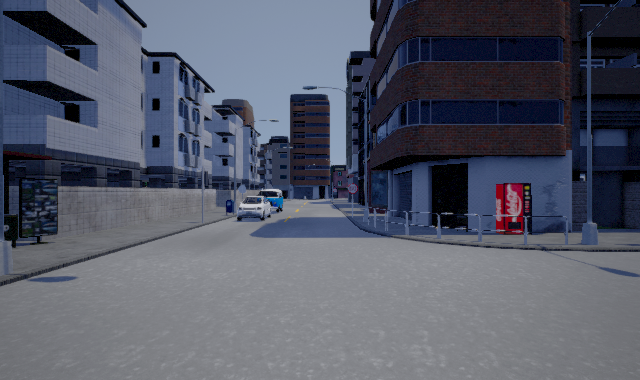traffic_sign: (348, 183, 358, 194)
vehicle: (237, 189, 271, 223), (257, 186, 283, 215)
